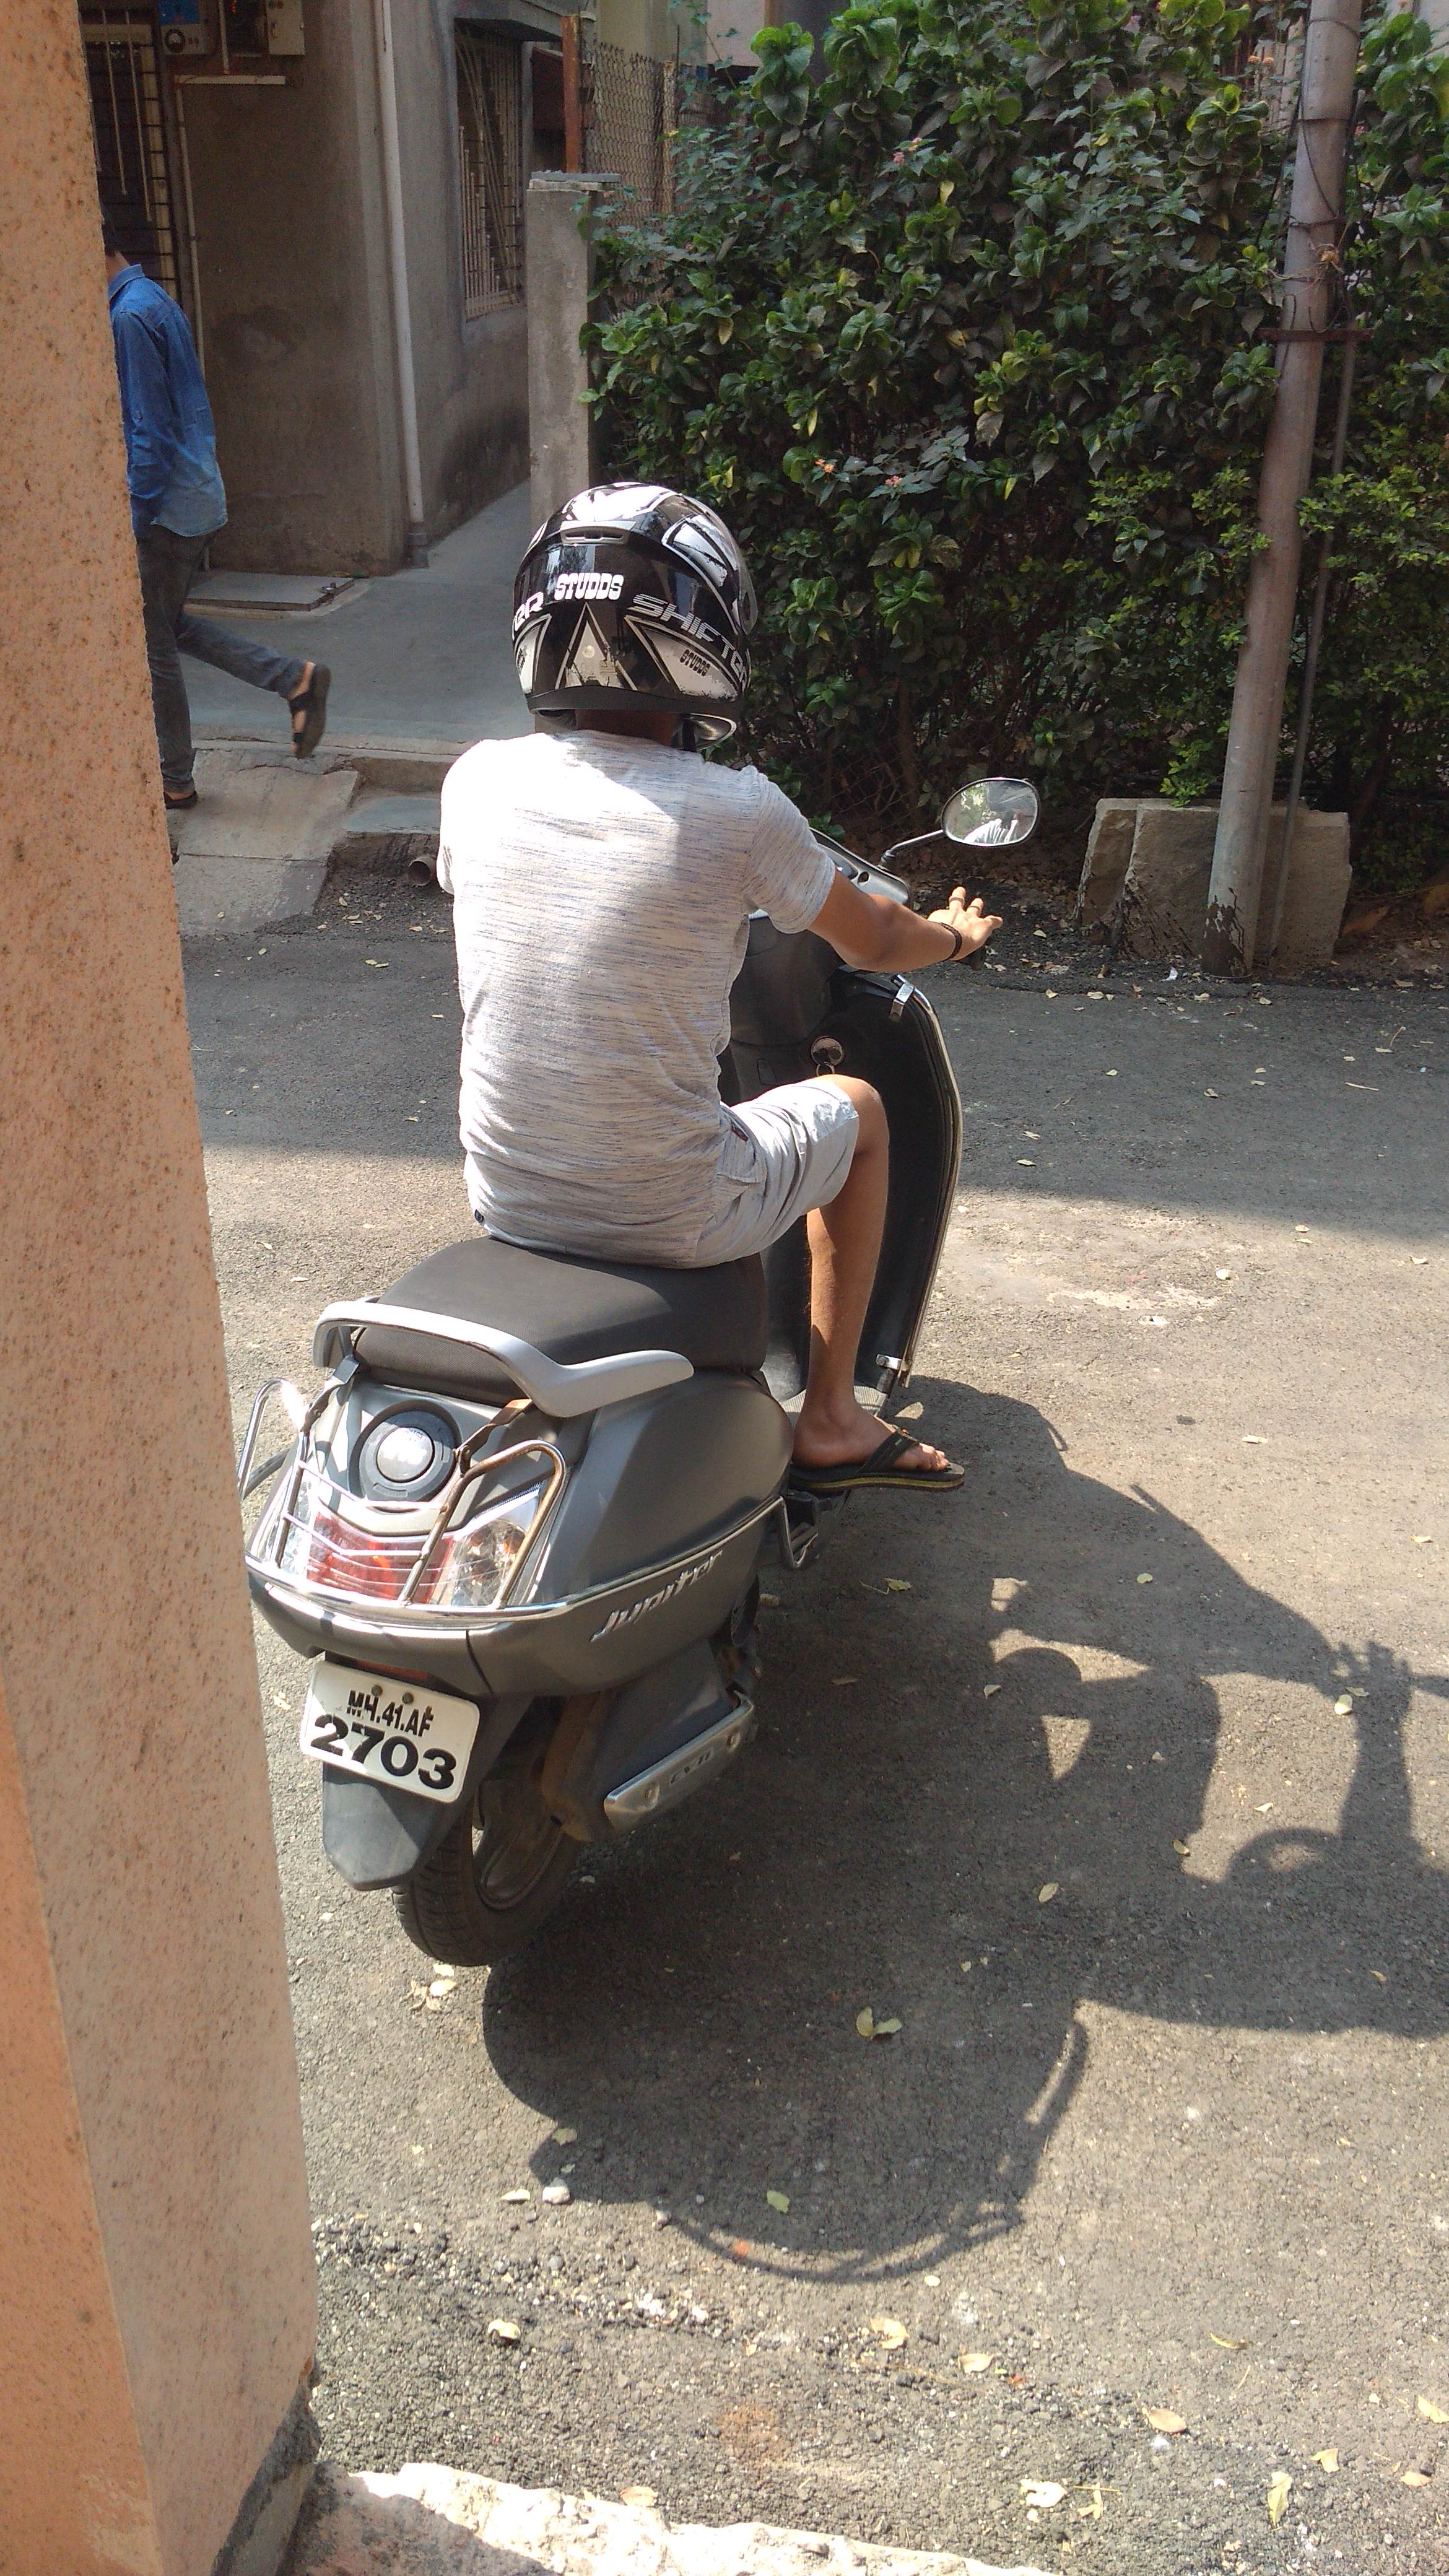helmet: (249, 478, 1171, 1920)
